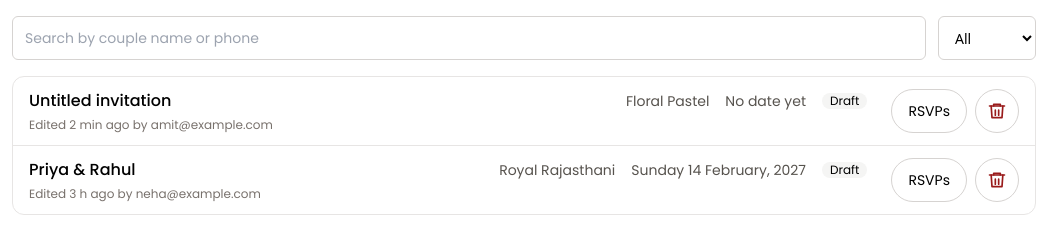
InvitationList › searches by name
In the search field named "Search invitations": (469, 38) top-left (12, 16), bottom-right (926, 60), type "priya"
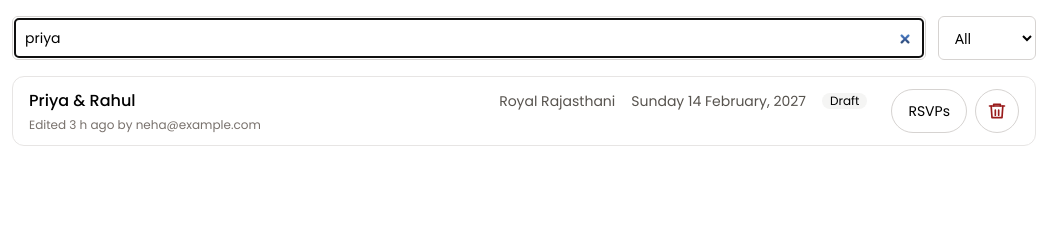
In the search field named "Search invitations": (469, 38) top-left (12, 16), bottom-right (926, 60), type "zzz"
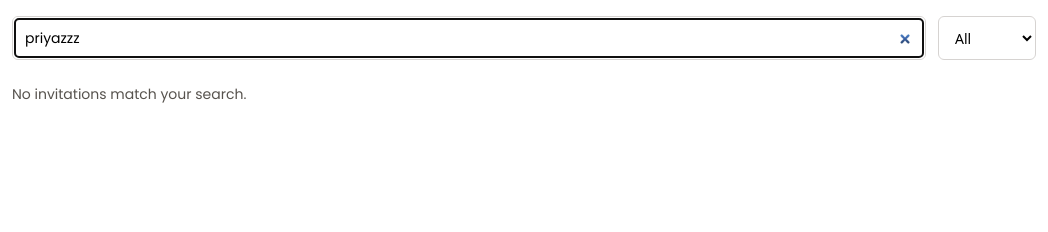
Result: the text "No invitations match your search." is shown at top-left (12, 84), bottom-right (246, 104)
